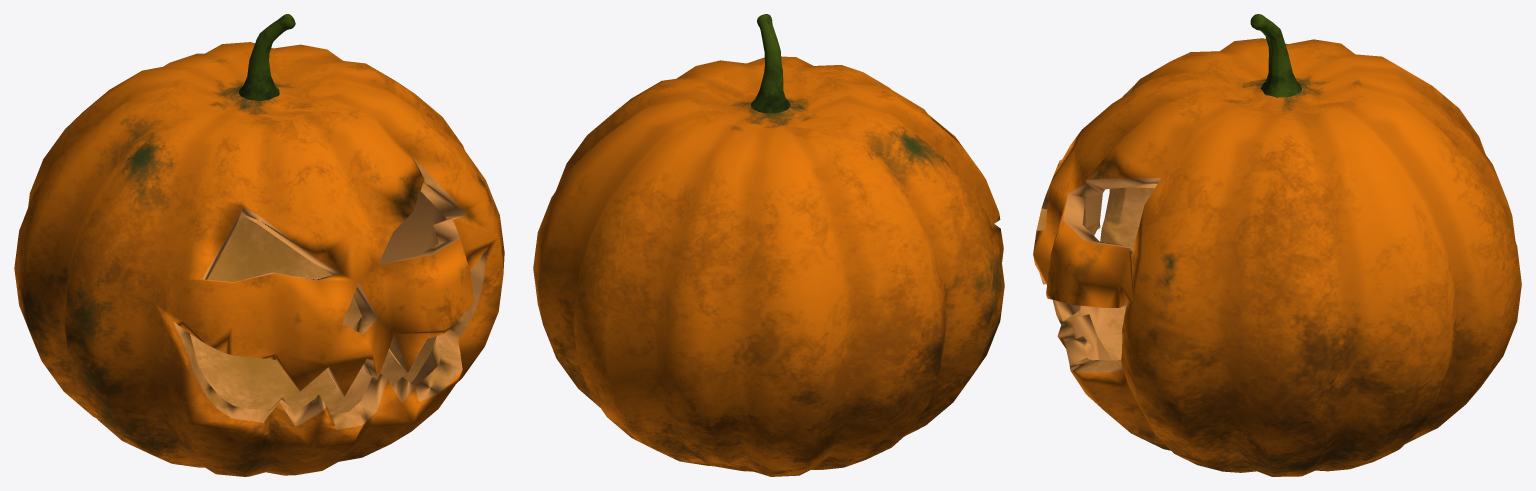
Rendered from pumpkin.glb.
The picture shows the model from 3 angles, left to right: view 1: azimuth 30°, elevation 25°; view 2: azimuth 150°, elevation 25°; view 3: azimuth 270°, elevation 25°; orthographic projection. The views are drawn at different scales.
Visible parts, largest first — view 1: Sphere002; view 2: Sphere002; view 3: Sphere002.
Boxes of the visible parts, x1,y1,x2,y2 form: Sphere002: (14, 14, 504, 476); Sphere002: (533, 14, 1004, 476); Sphere002: (1033, 14, 1521, 476).
Bounding box in the file's own units: 3.02 × 2.99 × 2.99.
1 material, 1 textured.
